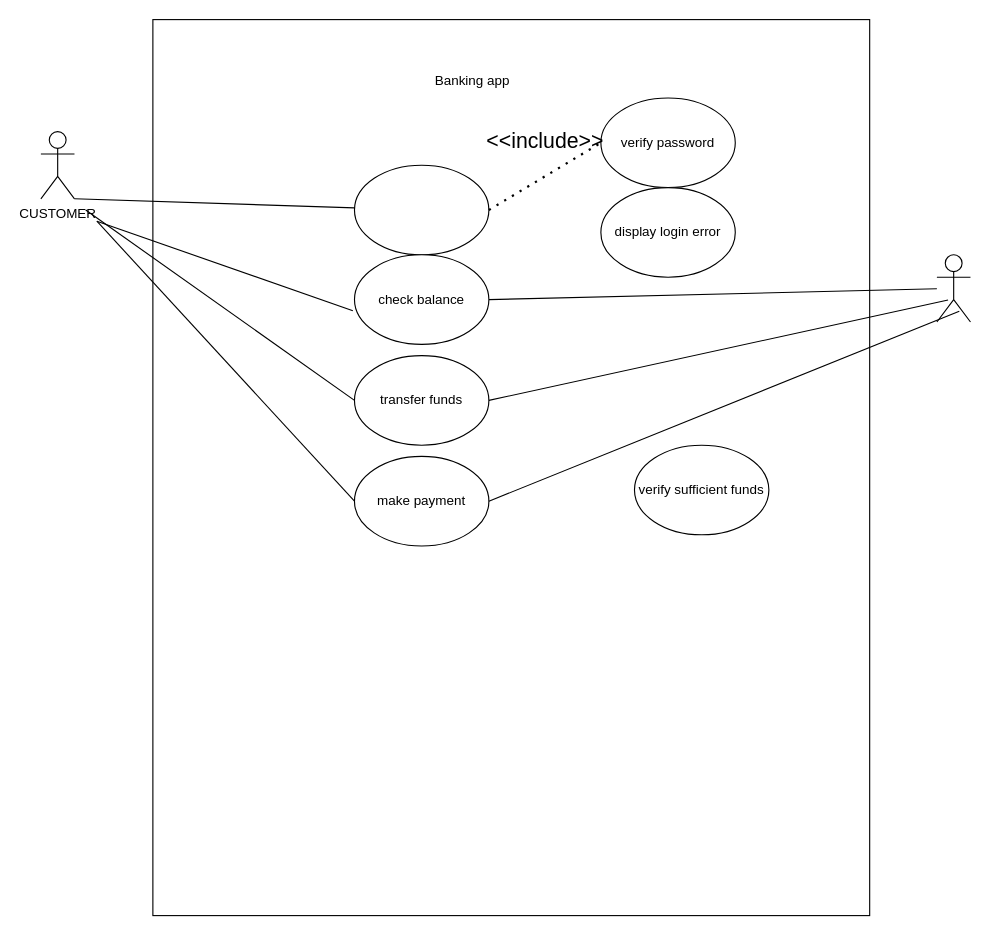
The diagram is 1001 pixels wide and 935 high, and some of its shapes have lost their labels. Each missing label, with the centre of its shape:
"log in" goes at pixel 421 209.
"TH BANK" goes at pixel 953 288.
